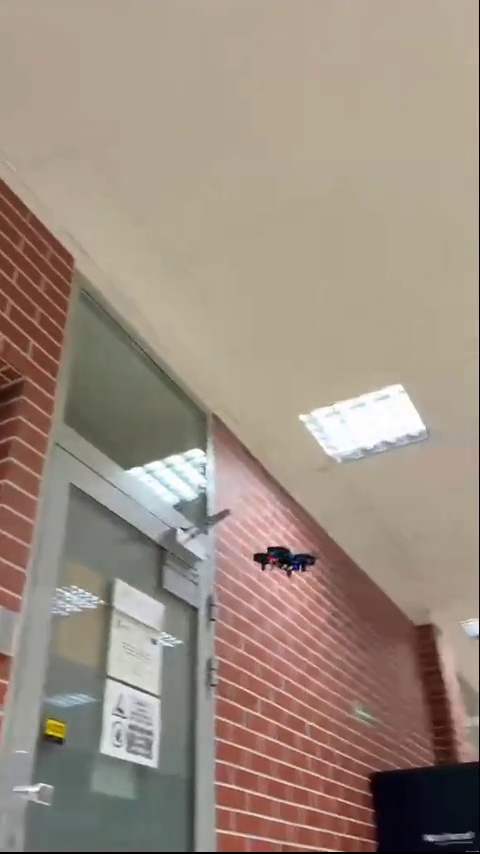drone: (253, 542, 313, 583)
